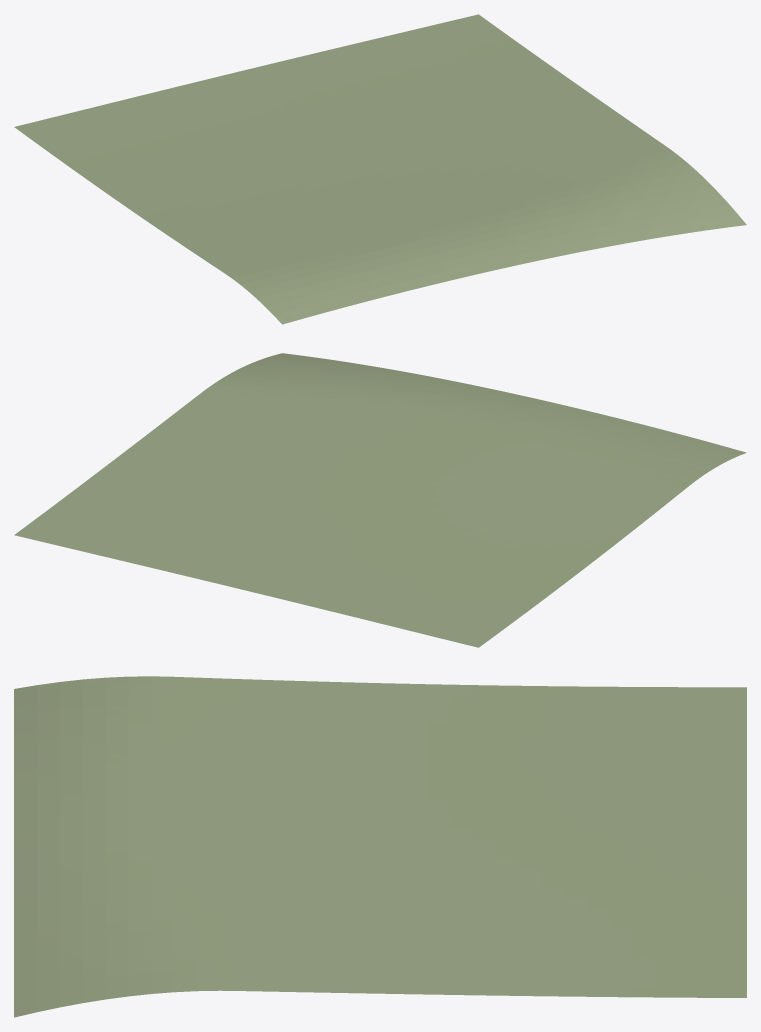
Rendered from desert-26-21.glb.
3 views of the same model, one above another, from view 1: azimuth 30°, elevation 25°; view 2: azimuth 150°, elevation 25°; view 3: azimuth 270°, elevation 25° (orthographic). The views are drawn at different scales.
Visible parts, largest first — view 1: desert-26-21; view 2: desert-26-21; view 3: desert-26-21.
Part boxes in pixels (x1=…): desert-26-21: x1=14, y1=14, x2=746, y2=324; desert-26-21: x1=14, y1=353, x2=746, y2=647; desert-26-21: x1=14, y1=676, x2=746, y2=1017.
Size of the model in its own units: 512 by 24.71 by 512.
